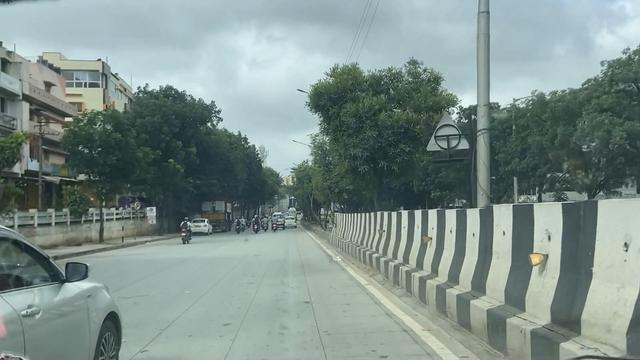LMV: (0, 229, 126, 360)
